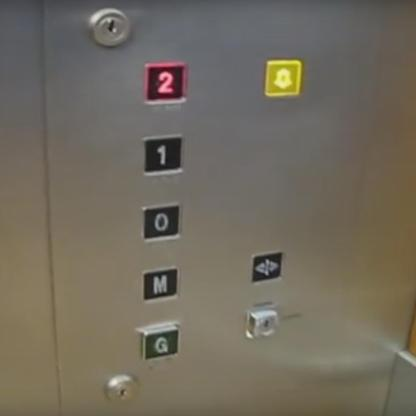0: (137, 199, 182, 245)
1: (138, 132, 186, 179)
2: (140, 60, 191, 108)
G: (134, 320, 183, 364)
M: (138, 262, 183, 306)
alarm: (260, 56, 304, 99)
keyhole: (82, 5, 132, 50), (243, 305, 281, 342), (101, 371, 139, 407)
open: (248, 248, 284, 287)
